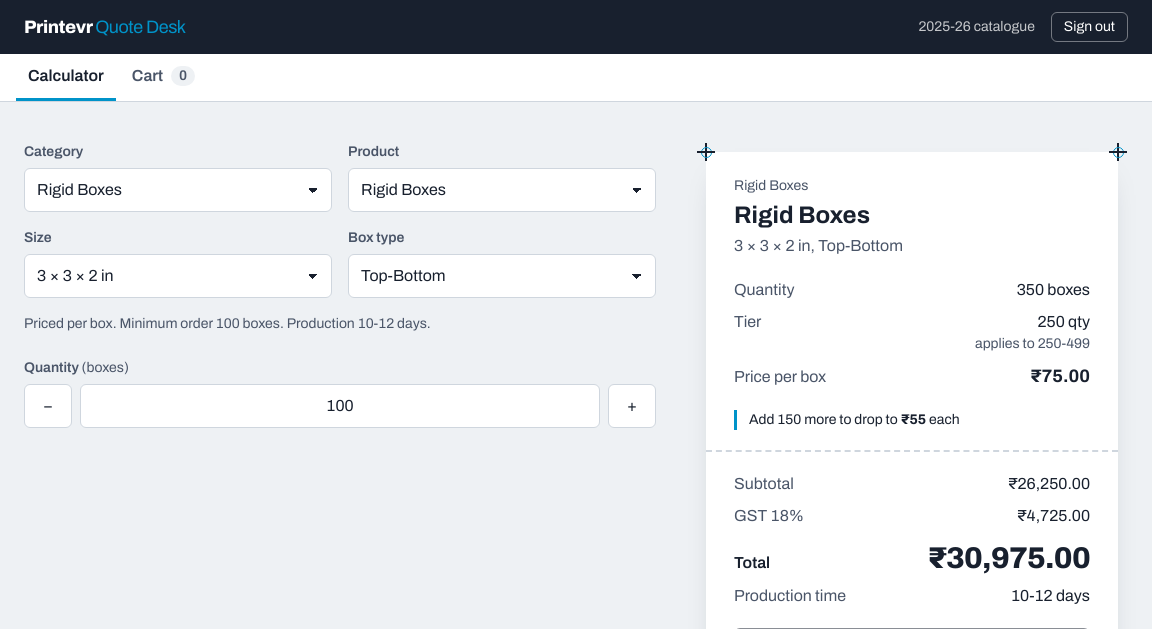
it: quote desk › T5 on screen: better option changes quantity only when clicked
Replace the text in the field labelled "Quantity (boxes)" with "450". click: (340, 406)
box: 80,384 -> 600,428
Wait 300 ms
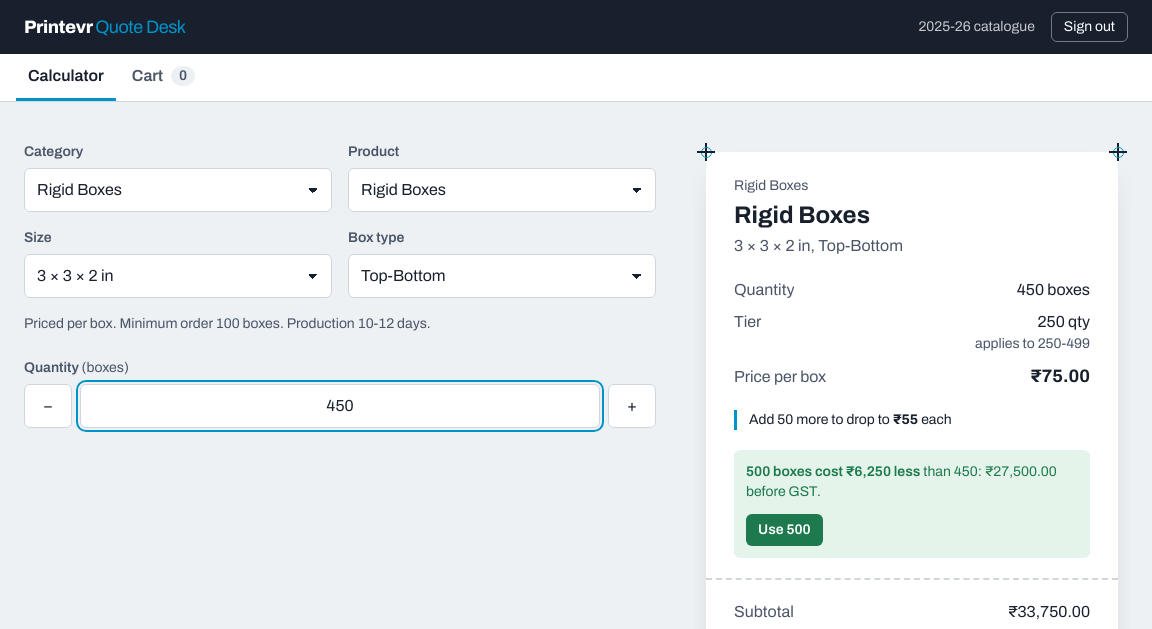
expect the text "500 boxes cost ₹6,250 less" is shown: met, box 746,464 -> 920,479
Click the button "Use 500". click: (784, 530)
box: 746,514 -> 823,546
Wait 300 ms
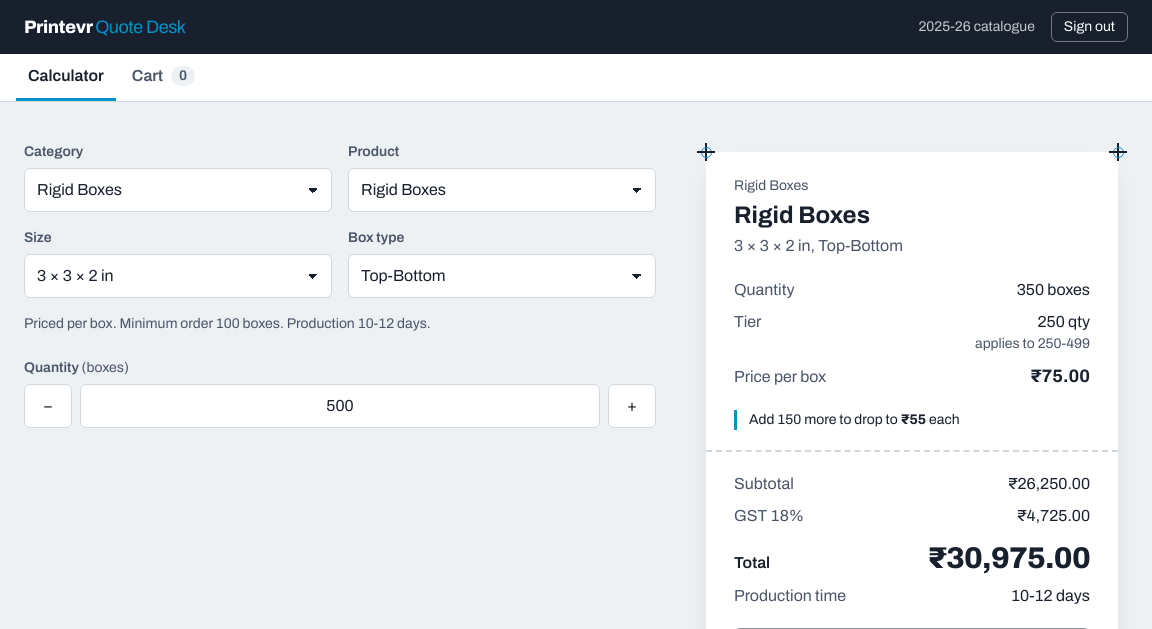
expect the field labelled "Quantity (boxes)" holds "500": met, box 80,384 -> 600,428
